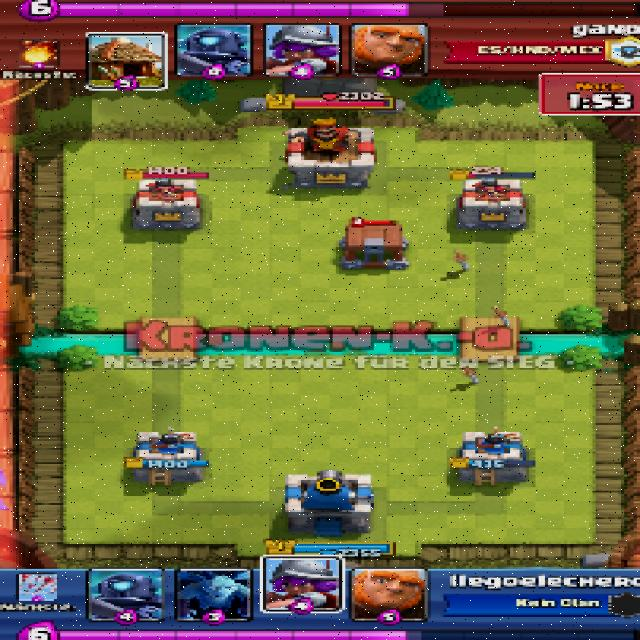Player-GoblinCage: (336, 220, 417, 270)
